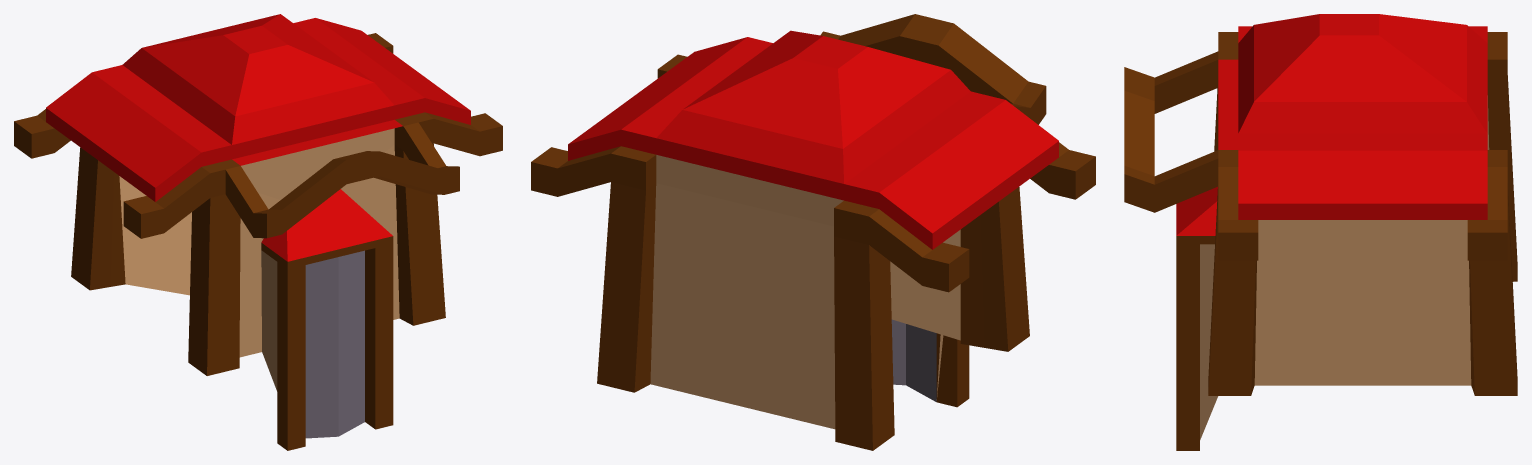
Rendered from karczma.fbx.
3 renders of one model, left to right at view 1: azimuth 30°, elevation 25°; view 2: azimuth 150°, elevation 25°; view 3: azimuth 270°, elevation 25°, orthographic. The views are drawn at different scales.
Visible parts, largest first — view 1: Cube.003; view 2: Cube.003; view 3: Cube.003.
Part boxes in pixels (box(x1,y1,x2,y2)): Cube.003: box(14, 14, 502, 450); Cube.003: box(531, 14, 1095, 450); Cube.003: box(1124, 14, 1517, 450).
Bounding box in the file's own units: 1569 × 1428 × 1298.
